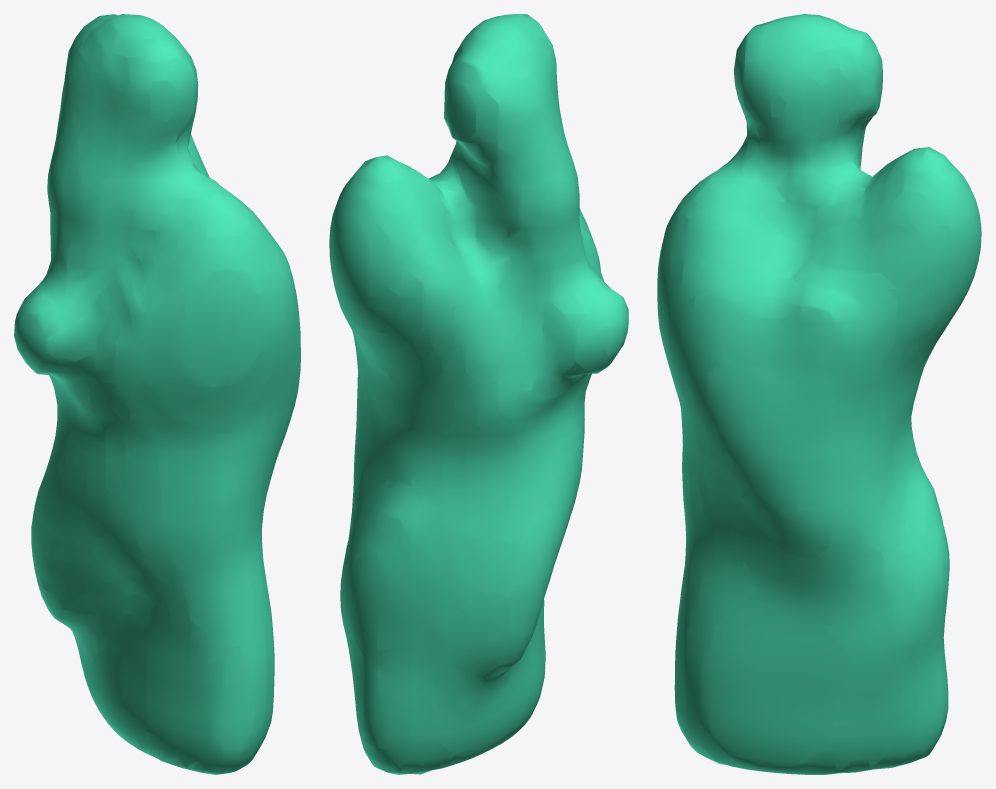
3 views of the same model, side by side, from view 1: azimuth 30°, elevation 25°; view 2: azimuth 150°, elevation 25°; view 3: azimuth 270°, elevation 25° (orthographic).
Visible parts, largest first — view 1: Liquid_Domain; view 2: Liquid_Domain; view 3: Liquid_Domain.
Part boxes in pixels (<box>): Liquid_Domain: <box>14,14,300,774</box>; Liquid_Domain: <box>329,14,628,774</box>; Liquid_Domain: <box>657,14,981,774</box>.
Bounding box in the file's own units: 2.6 × 7.1 × 2.9.
